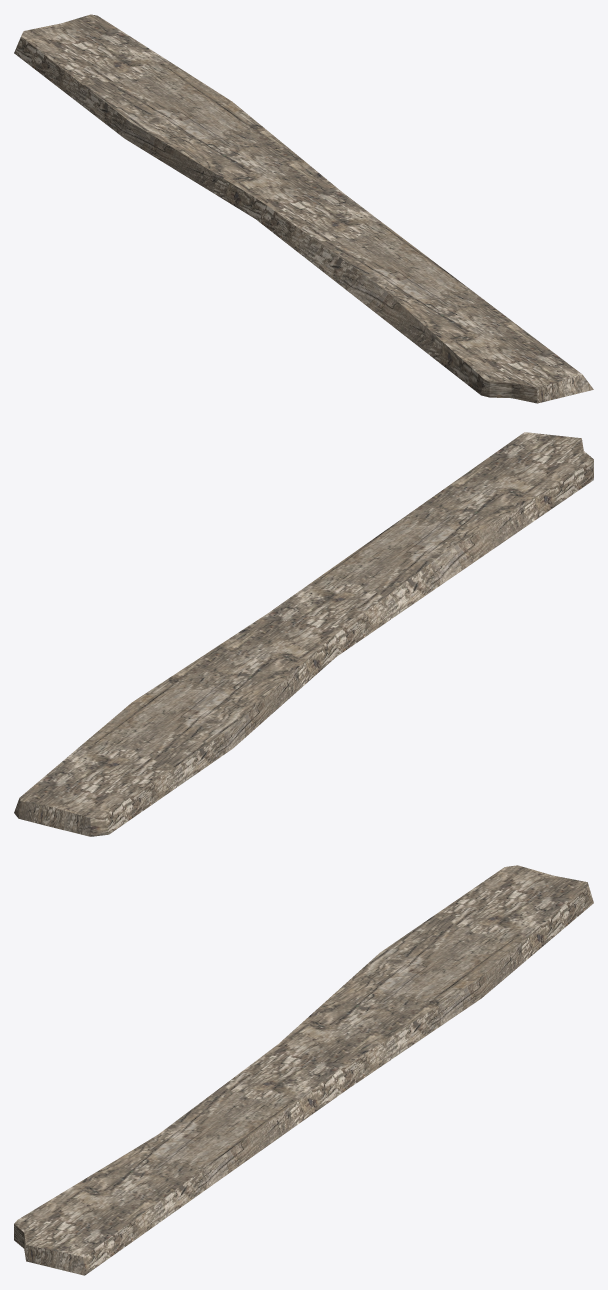
Rendered from Plank_01.FBX.
3 renders of one model, top to bottom at view 1: azimuth 30°, elevation 25°; view 2: azimuth 150°, elevation 25°; view 3: azimuth 330°, elevation 25°, orthographic. The views are drawn at different scales.
Visible parts, largest first — view 1: Plank_01; view 2: Plank_01; view 3: Plank_01.
Part boxes in pixels (<box>): Plank_01: <box>14,14,593,403</box>; Plank_01: <box>14,432,593,836</box>; Plank_01: <box>14,865,593,1275</box>.
Bounding box in the file's own units: 14.07 × 1.97 × 112.
